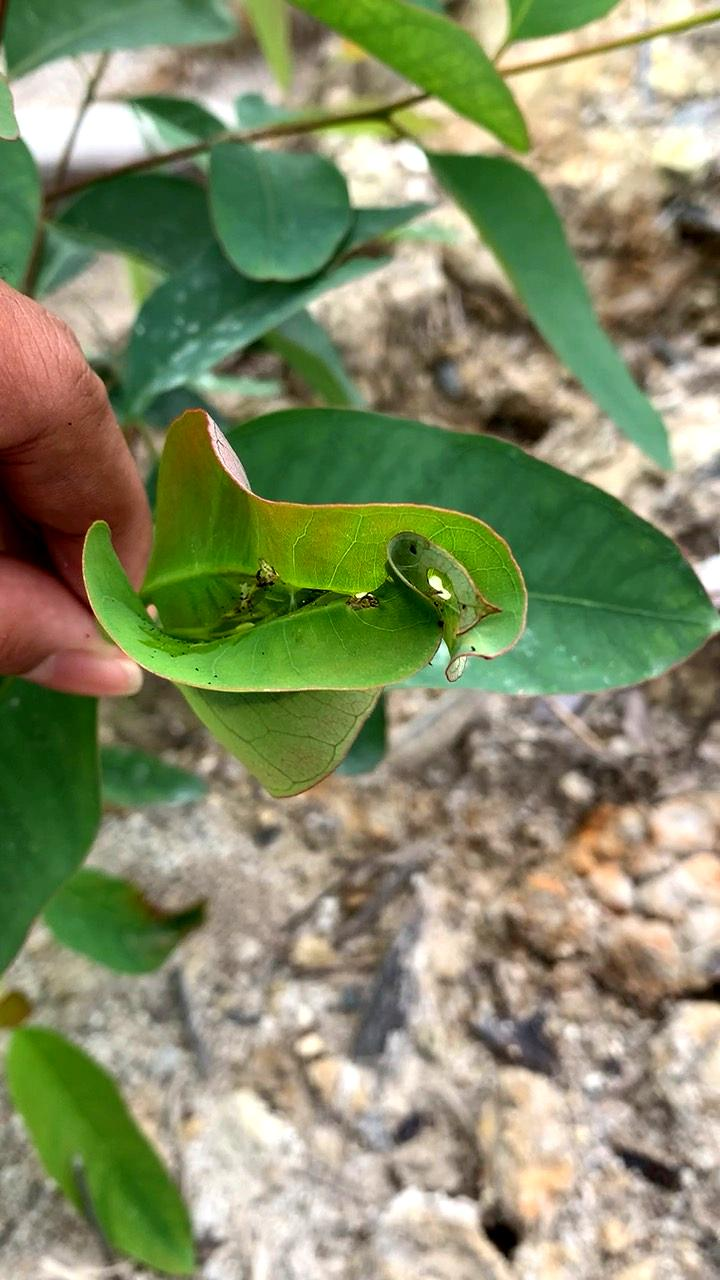Leaf Roller - Leaf: (85, 390, 556, 822)
